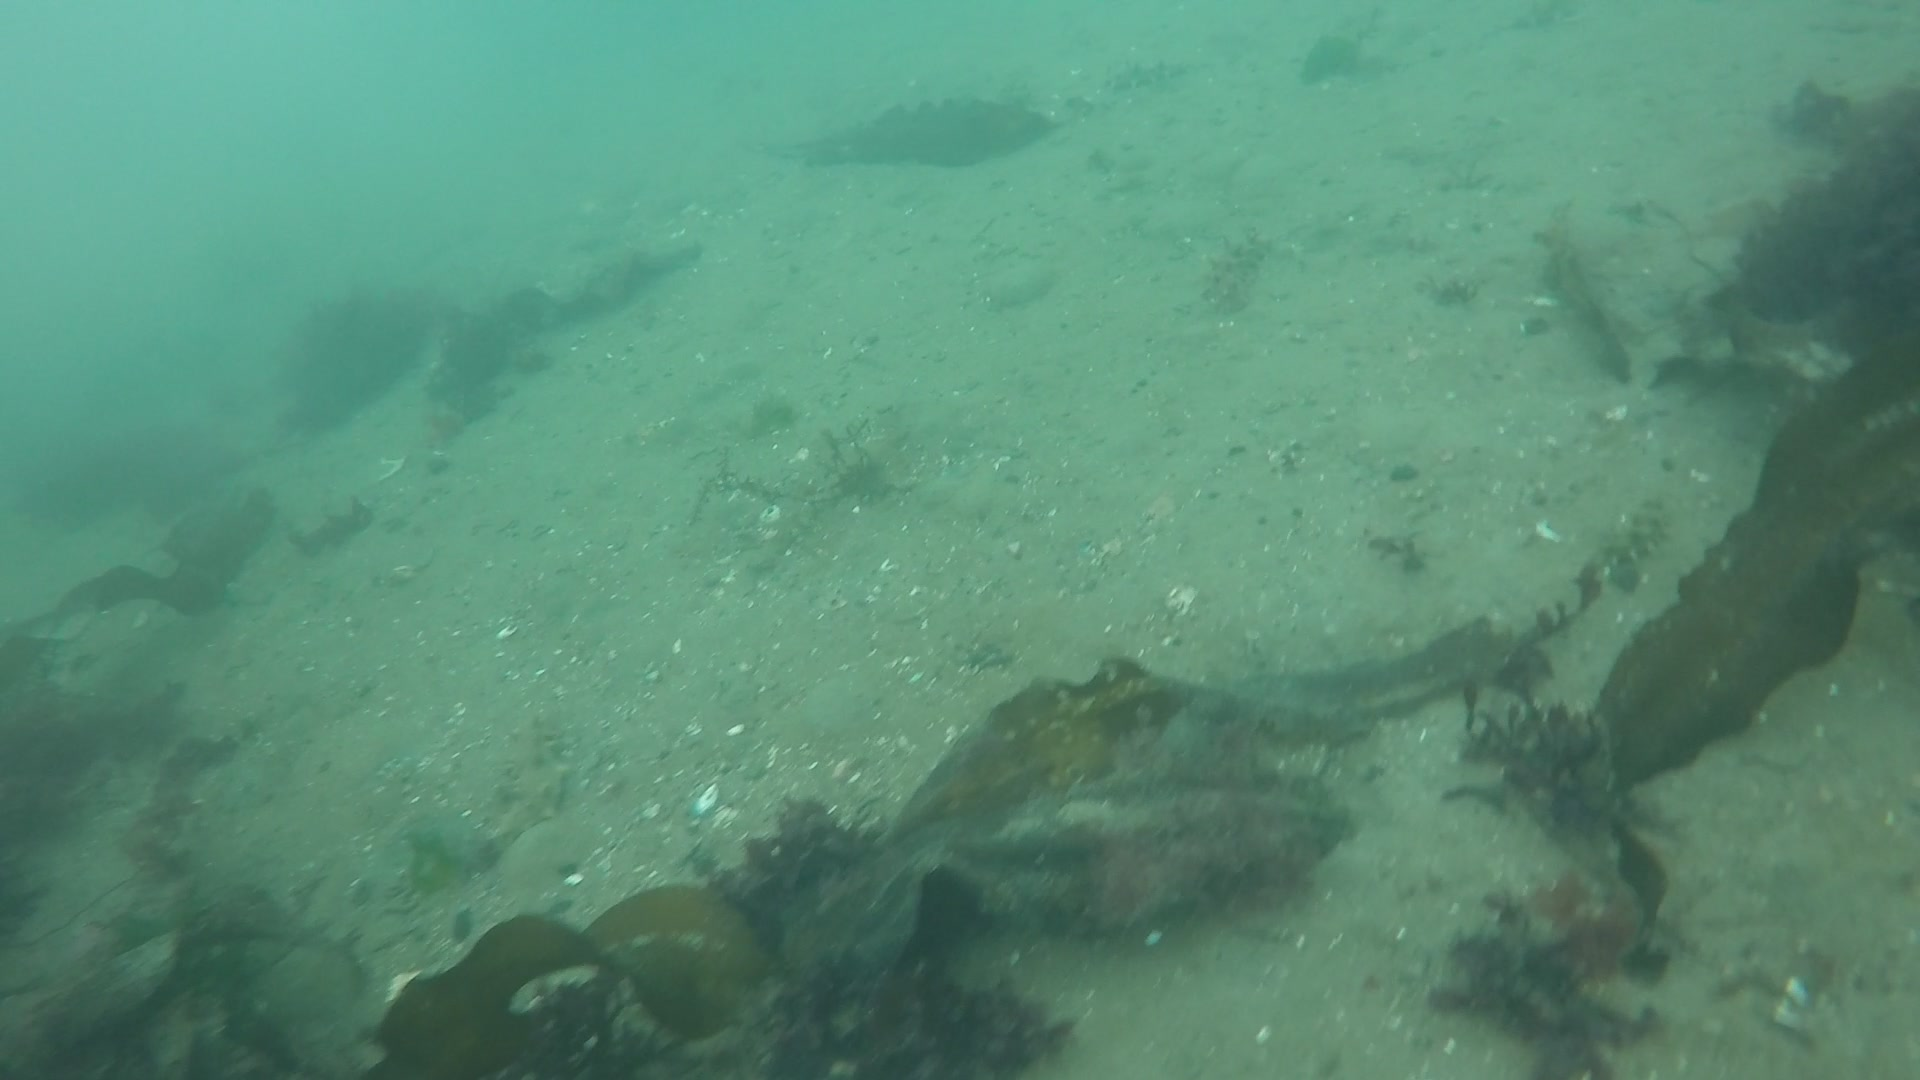holothurian: (484, 715, 574, 852), (1201, 225, 1280, 311), (1098, 63, 1204, 95)
